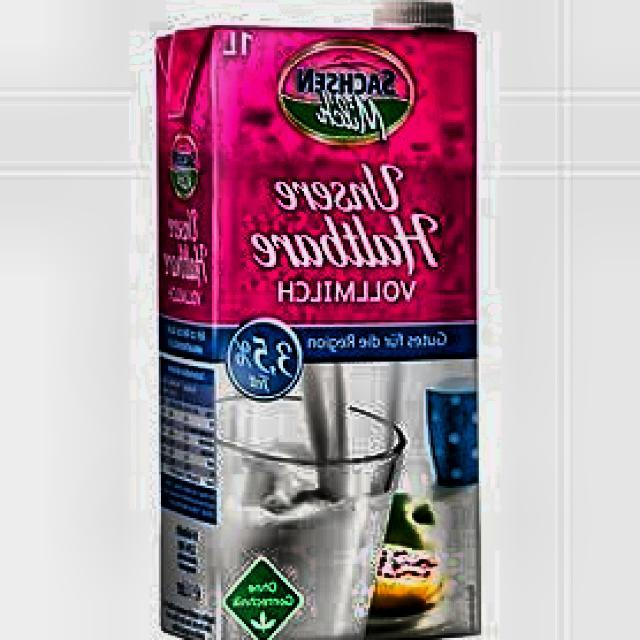cardboard: (154, 18, 481, 640)
